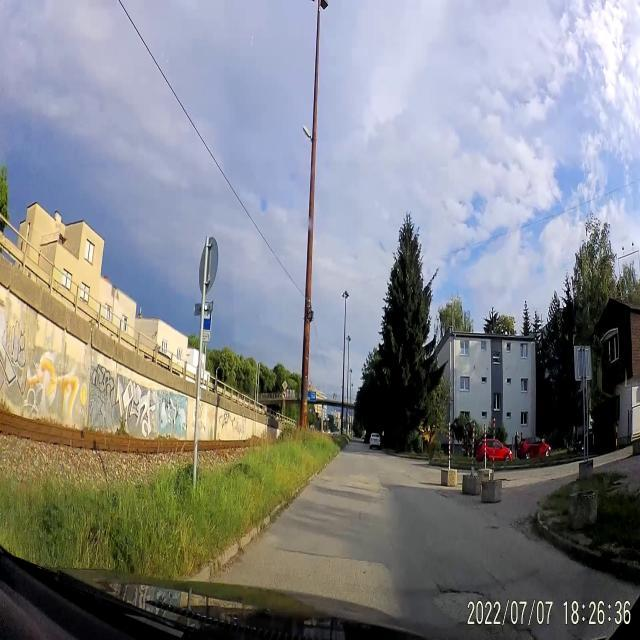Pothole: (428, 580, 502, 626), (472, 626, 538, 640), (512, 516, 540, 541), (436, 487, 454, 500), (484, 522, 502, 532), (494, 477, 514, 482)
